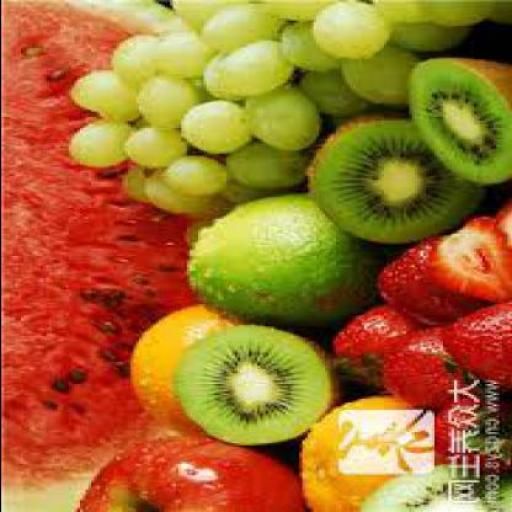biodegradable: (1, 0, 511, 511), (1, 0, 219, 511), (182, 193, 380, 326), (302, 111, 484, 243), (172, 325, 334, 443), (70, 434, 302, 510), (295, 393, 436, 510), (124, 302, 242, 436), (405, 56, 509, 184), (352, 323, 481, 406), (369, 234, 478, 322), (326, 304, 422, 386), (433, 298, 510, 397), (422, 215, 510, 301), (357, 464, 509, 510), (422, 400, 510, 471), (239, 81, 315, 150), (199, 38, 287, 96), (337, 44, 411, 106), (309, 0, 388, 55), (222, 141, 304, 188), (176, 100, 250, 152), (292, 66, 366, 114), (197, 2, 273, 48), (130, 73, 191, 128), (138, 165, 205, 212), (65, 118, 129, 166), (278, 20, 335, 68), (158, 157, 225, 197), (152, 24, 200, 76), (121, 126, 183, 166), (68, 69, 129, 109), (107, 33, 155, 78), (385, 21, 464, 48), (414, 0, 484, 25), (168, 0, 222, 28), (259, 0, 342, 18), (318, 102, 377, 126), (177, 208, 217, 242), (118, 163, 149, 200), (369, 0, 413, 22), (90, 102, 138, 121), (489, 200, 509, 242), (214, 182, 248, 202), (180, 76, 211, 96), (484, 0, 509, 22), (124, 110, 141, 124)
